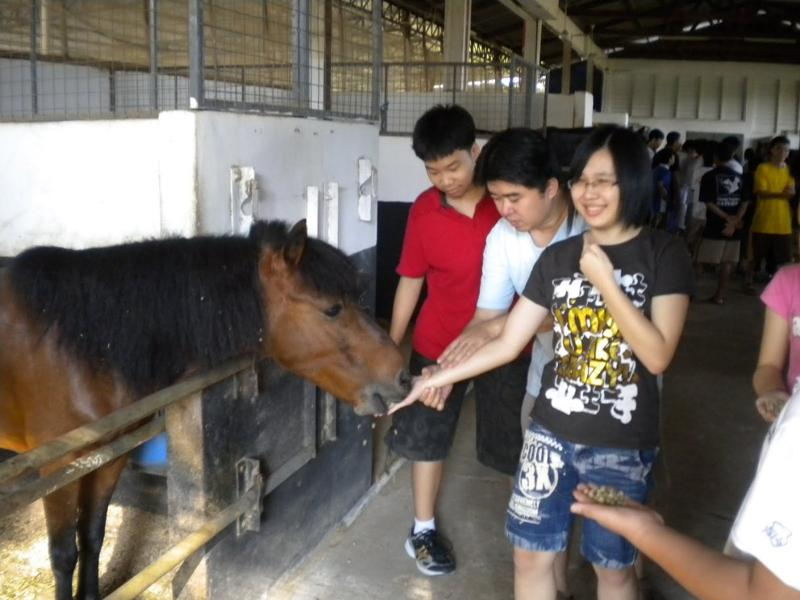person: (383, 126, 690, 600)
